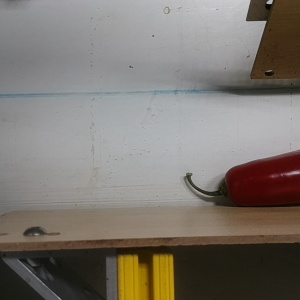Cut Point: (214, 165, 243, 206)
